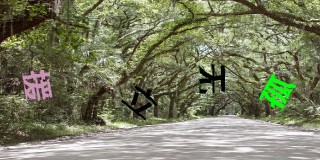孤: (258, 73, 296, 111)
援: (20, 69, 52, 100)
无: (197, 64, 226, 96)
立: (122, 82, 158, 121)
